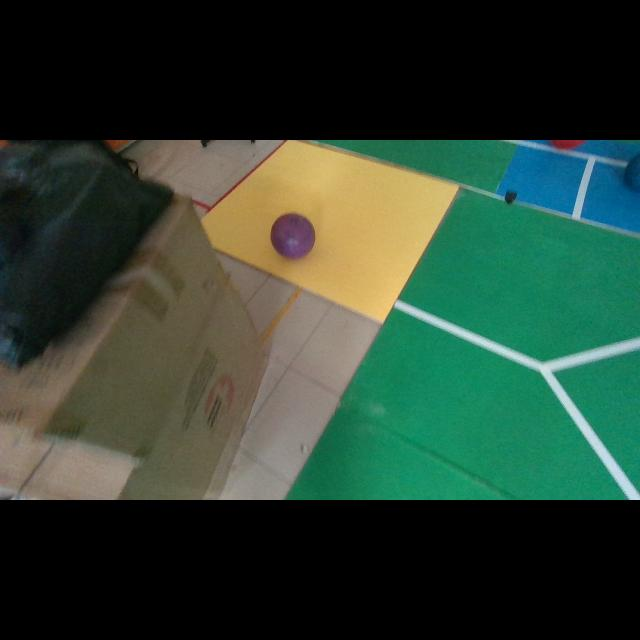P: (270, 214, 315, 259)
